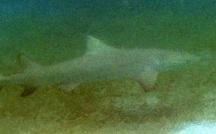Shark -Selachimorpha-: (0, 32, 198, 103)
